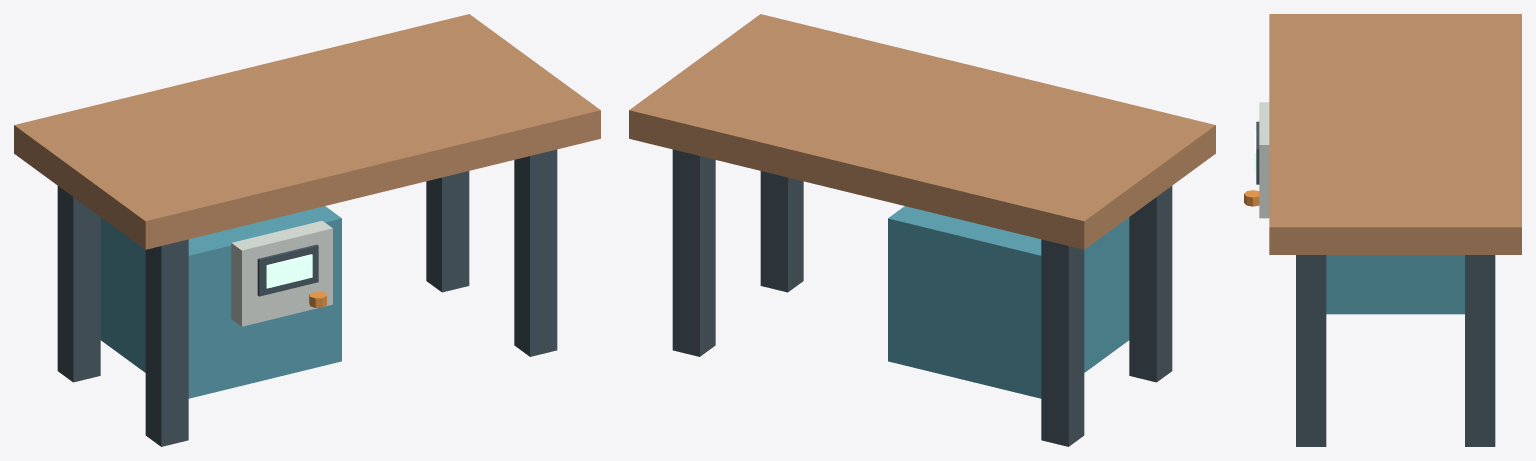
Rendered from assembly-workbench.glb.
The picture shows the model from 3 angles, left to right: view 1: azimuth 30°, elevation 25°; view 2: azimuth 150°, elevation 25°; view 3: azimuth 270°, elevation 25°; orthographic projection. The views are drawn at different scales.
Visible parts, largest first — view 1: copper, dark, blue, cream, light; view 2: copper, dark, blue; view 3: copper, dark, blue, cream.
Part boxes in pixels (box(x1,y1,x2,y2)): copper: box(14, 14, 600, 249); dark: box(57, 149, 557, 446); blue: box(100, 206, 341, 398); cream: box(231, 220, 332, 326); light: box(266, 254, 312, 288); copper: box(629, 14, 1215, 249); dark: box(672, 149, 1172, 446); blue: box(888, 206, 1129, 398); copper: box(1269, 14, 1521, 254); dark: box(1256, 121, 1495, 446); blue: box(1326, 255, 1464, 314); cream: box(1259, 102, 1269, 218).
Bounding box in the file's own units: 2 × 1.02 × 1.1.
